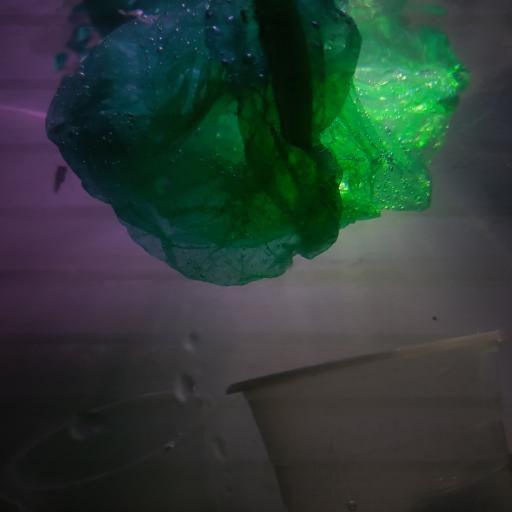plastic_bag: (42, 2, 470, 288)
plastic_cup: (226, 326, 512, 512), (0, 387, 215, 512)
